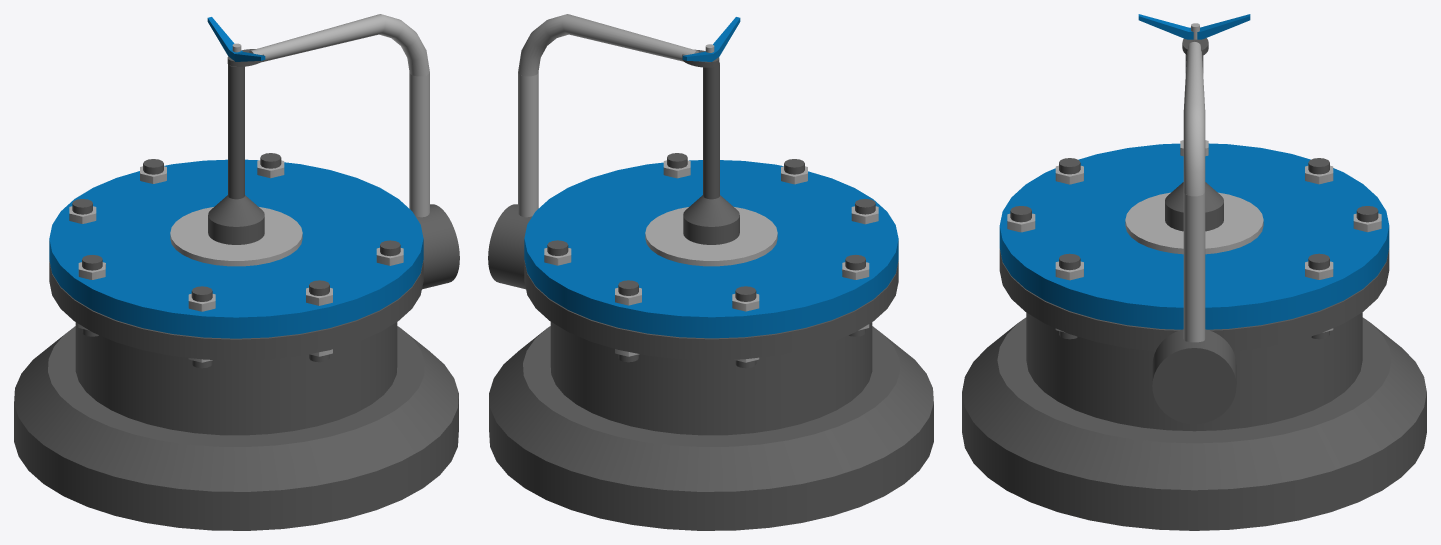
Rendered from lyuk.fbx.
3 renders of one model, left to right at view 1: azimuth 30°, elevation 25°; view 2: azimuth 150°, elevation 25°; view 3: azimuth 270°, elevation 25°, orthographic. The views are drawn at different scales.
Visible parts, largest first — view 1: Cylinder033, Cylinder773, Cylinder031, Cylinder764, Cylinder798, Cylinder800, Cylinder799, Cylinder791, Cylinder792, Cone001, Cylinder794, Cylinder796; view 2: Cylinder033, Cylinder773, Cylinder031, Cylinder764, Cylinder798, Cylinder800, Cylinder799, Cylinder791, Cylinder792, Cone001, Cylinder794, Cylinder796; view 3: Cylinder033, Cylinder773, Cylinder031, Cylinder764, Cylinder791, Cylinder798, Cylinder799, Cylinder800, Cylinder796, Cone001, Cylinder794.
Boxes of the visible parts, x1,y1,x2,y2 form: Cylinder033: (14,326,458,530); Cylinder773: (49,159,423,338); Cylinder031: (75,322,397,435); Cylinder764: (49,260,423,360); Cylinder798: (170,207,302,266); Cylinder800: (249,14,429,76); Cylinder799: (409,72,429,217); Cylinder791: (415,204,459,289); Cylinder792: (228,64,244,199); Cone001: (208,195,264,226); Cylinder794: (208,215,264,244); Cylinder796: (207,17,265,61); Cylinder033: (489,326,933,530); Cylinder773: (524,160,898,338); Cylinder031: (550,322,872,435); Cylinder764: (524,260,898,360); Cylinder798: (645,207,777,266); Cylinder800: (518,14,698,76); Cylinder799: (518,72,538,217); Cylinder791: (488,204,532,289); Cylinder792: (703,62,719,199); Cone001: (683,195,739,226); Cylinder794: (683,215,739,244); Cylinder796: (682,17,740,61); Cylinder033: (962,317,1426,530); Cylinder773: (999,143,1389,329); Cylinder031: (1026,312,1362,431); Cylinder764: (999,248,1389,351); Cylinder791: (1152,329,1236,424); Cylinder798: (1125,192,1263,254); Cylinder799: (1183,192,1205,342); Cylinder800: (1183,42,1205,196); Cylinder796: (1138,14,1250,39); Cone001: (1165,182,1223,212); Cylinder794: (1165,202,1223,231).
Size of the model in its own units: 517 by 531 by 503.
